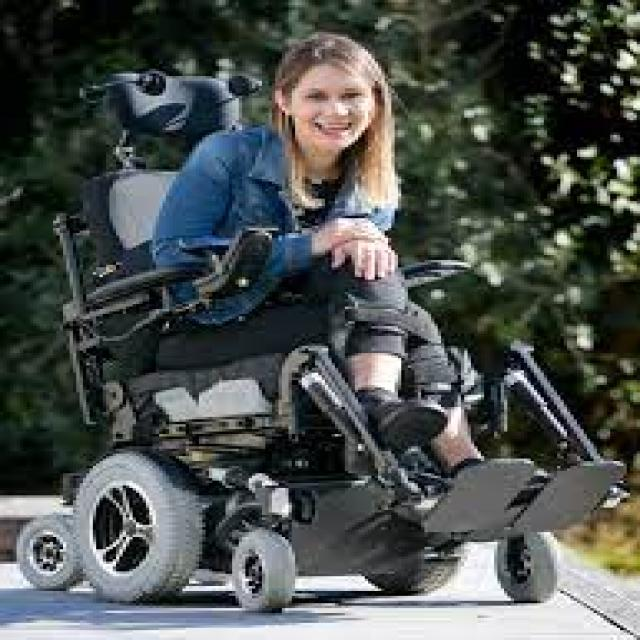wheelchairs: (40, 155, 628, 628)
